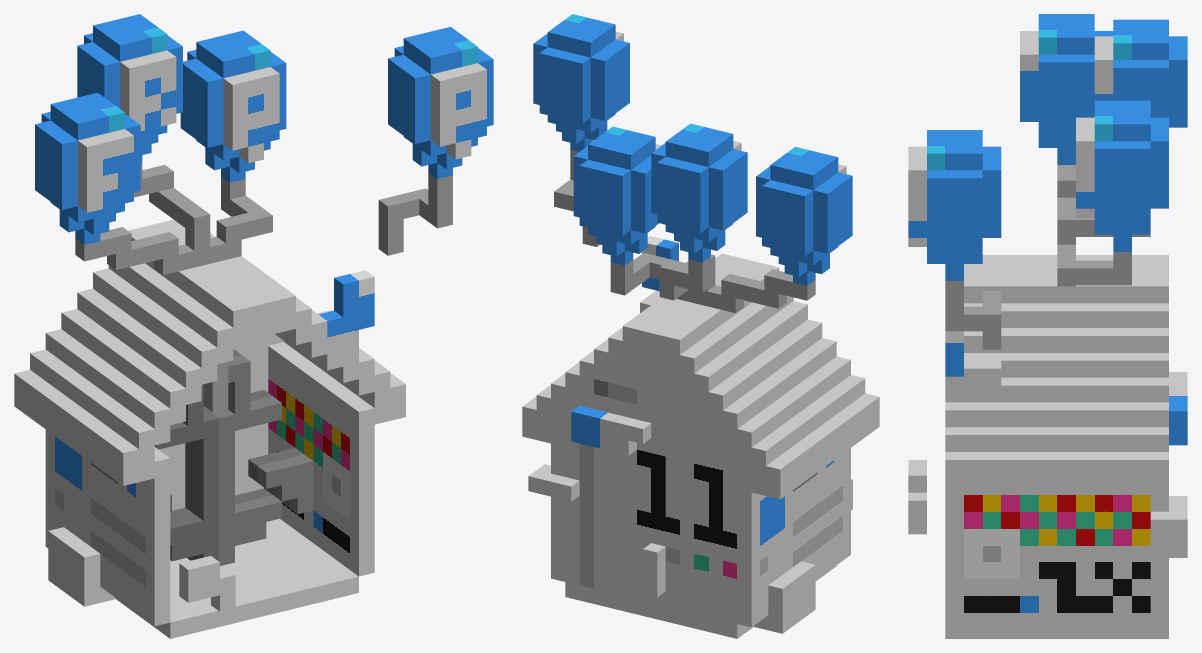
Rendered from HOME#11_GLB.glb.
3 renders of one model, left to right at view 1: azimuth 30°, elevation 25°; view 2: azimuth 150°, elevation 25°; view 3: azimuth 270°, elevation 25°, orthographic. The views are drawn at different scales.
Parts seen in each view (by area): view 1: Node-Local; view 2: Node-Local; view 3: Node-Local.
Boxes of the visible parts, bbox=[...] form: Node-Local: bbox=[14, 14, 493, 638]; Node-Local: bbox=[522, 14, 879, 638]; Node-Local: bbox=[908, 14, 1187, 638].
Size of the model in its own units: 24 by 32 by 15.
Materials: 1 (1 with a texture image).
